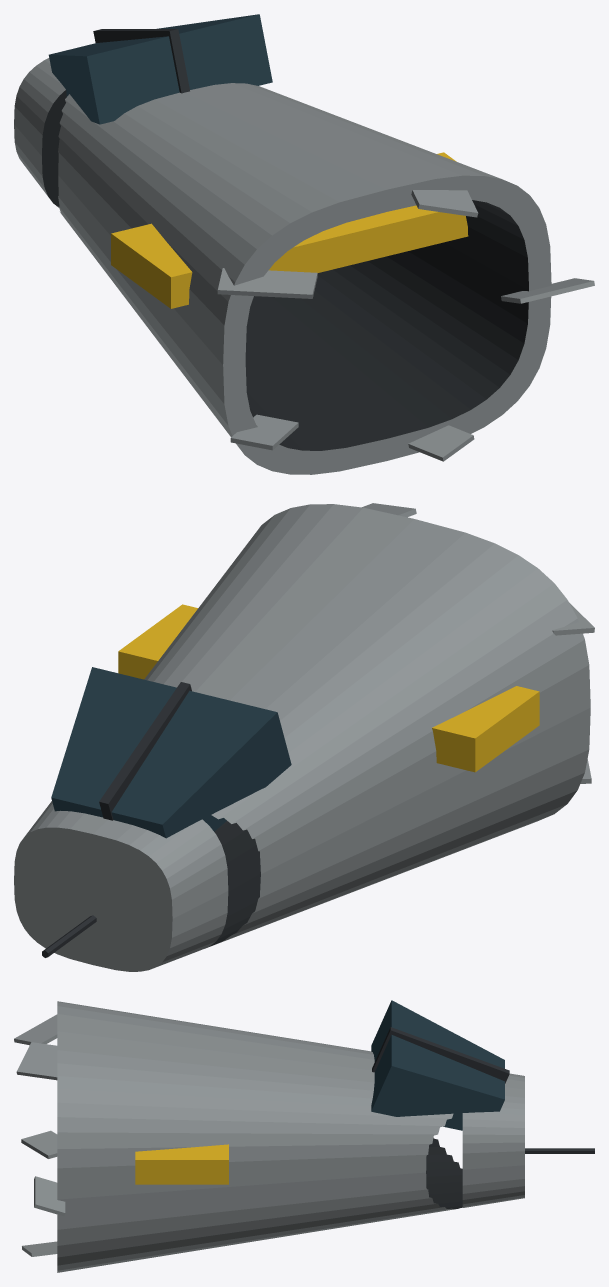
Rendered from site_dropship_front.glb.
The picture shows the model from 3 angles, top to bottom: view 1: azimuth 30°, elevation 25°; view 2: azimuth 150°, elevation 25°; view 3: azimuth 270°, elevation 25°; orthographic projection. The views are drawn at different scales.
Parts seen in each view (by area): view 1: hull, canopy, stripe, canopy_frame; view 2: hull, canopy, stripe, canopy_frame; view 3: hull, canopy, stripe, canopy_frame.
Part boxes in pixels (x1,y1,x2,y2): hull: [14, 45, 594, 474]; canopy: [48, 14, 272, 124]; stripe: [111, 152, 468, 308]; canopy_frame: [93, 29, 189, 93]; hull: [14, 503, 594, 971]; canopy: [51, 667, 291, 838]; stripe: [118, 604, 539, 772]; canopy_frame: [42, 682, 191, 957]; hull: [14, 1001, 524, 1272]; canopy: [371, 1000, 504, 1130]; stripe: [135, 1144, 228, 1184]; canopy_frame: [372, 1027, 594, 1153].
Bounding box in the file's own units: 4.18 × 3.04 × 7.46.
